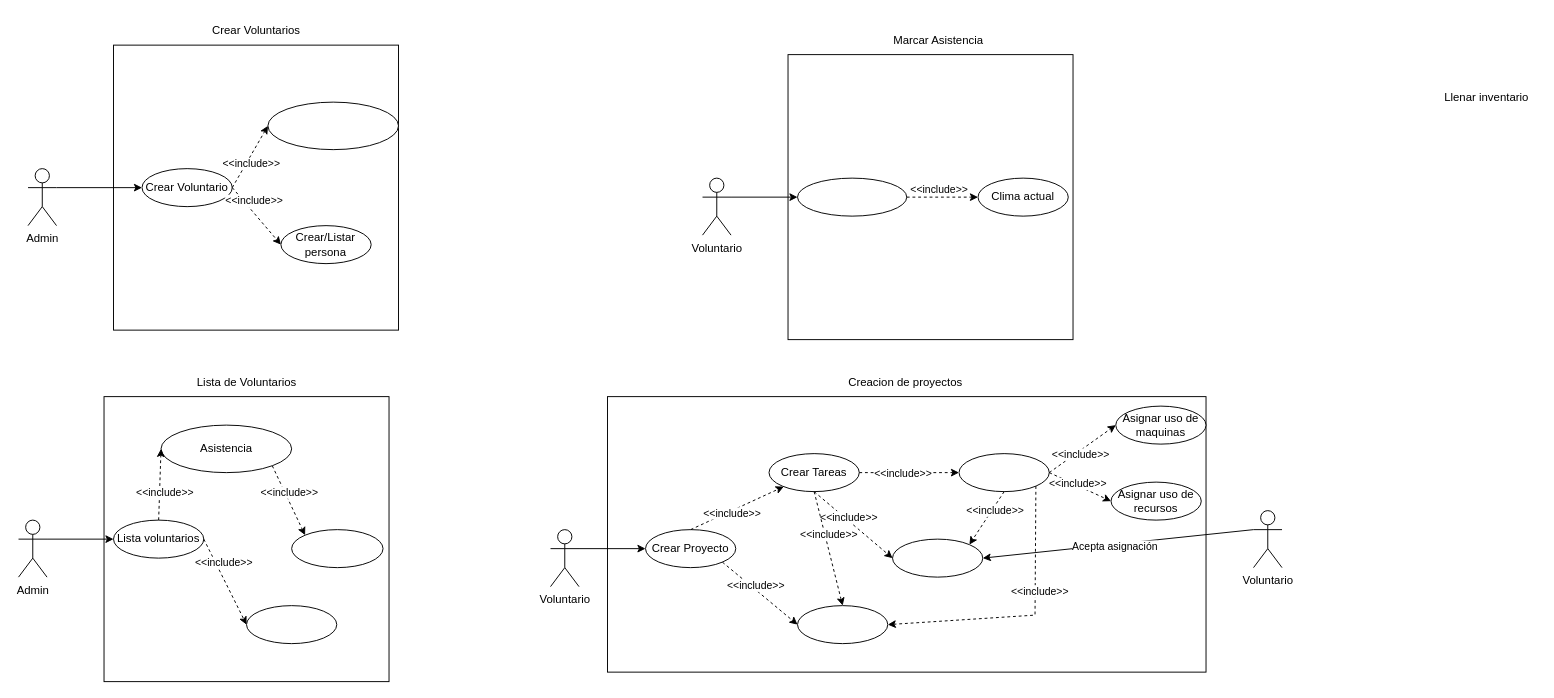
Image size: 1554x698. Some labels were removed from this diagram. Here are the shapes that lost their labels. From the top down, the centre of each, then its label:
the point at 333,125: Crear/Listar Tags de habilidades
the point at 852,196: Marca Asistencia en Biometrico
the point at 1003,472: Crear Microtareas
the point at 337,548: Registros del clima
the point at 937,557: Asignar voluntarios
the point at 291,624: Datos de su persona
the point at 842,624: Crear tiempos
